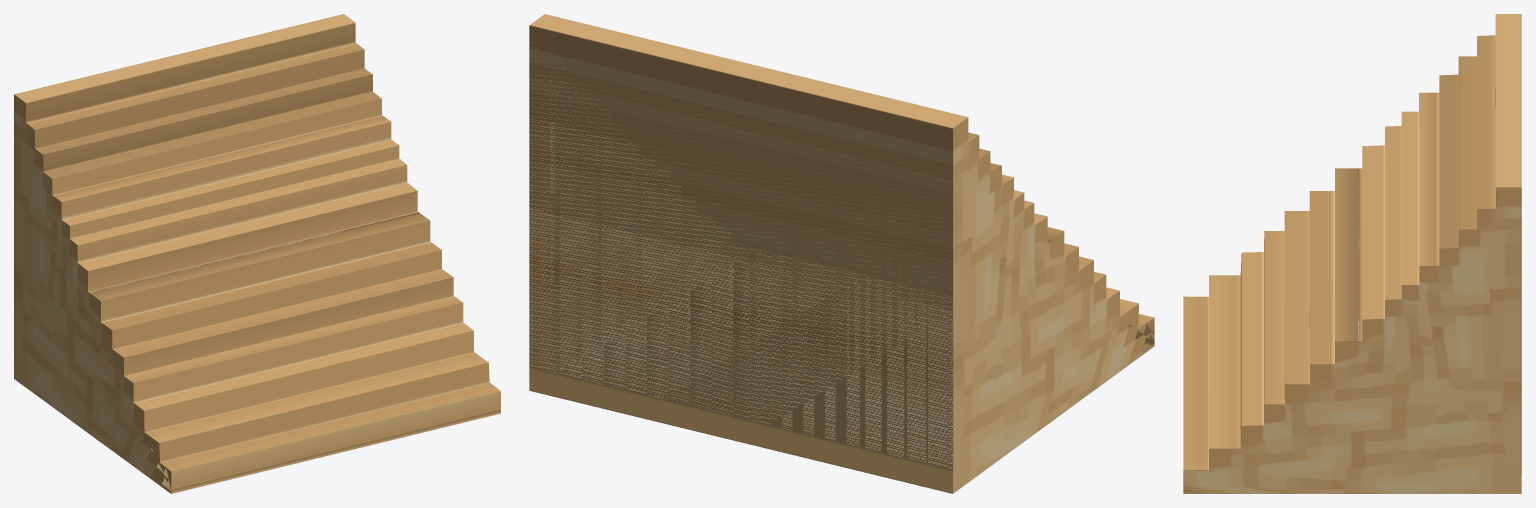
The model's file is badlymodeledstaircaselol.obj.
3 renders of one model, left to right at view 1: azimuth 30°, elevation 25°; view 2: azimuth 150°, elevation 25°; view 3: azimuth 270°, elevation 25°, orthographic. The views are drawn at different scales.
Parts seen in each view (by area): view 1: blenderstaircasecreator; view 2: blenderstaircasecreator; view 3: blenderstaircasecreator.
Part boxes in pixels (<box>): blenderstaircasecreator: <box>14,14,500,493</box>; blenderstaircasecreator: <box>529,14,1154,493</box>; blenderstaircasecreator: <box>1183,14,1521,493</box>.
Size of the model in its own units: 1.21 by 1 by 1.
